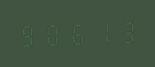nine: (18, 22, 41, 48)
one: (90, 19, 113, 45)
six: (66, 20, 89, 46)
three: (114, 18, 137, 44)
zero: (42, 21, 65, 47)
